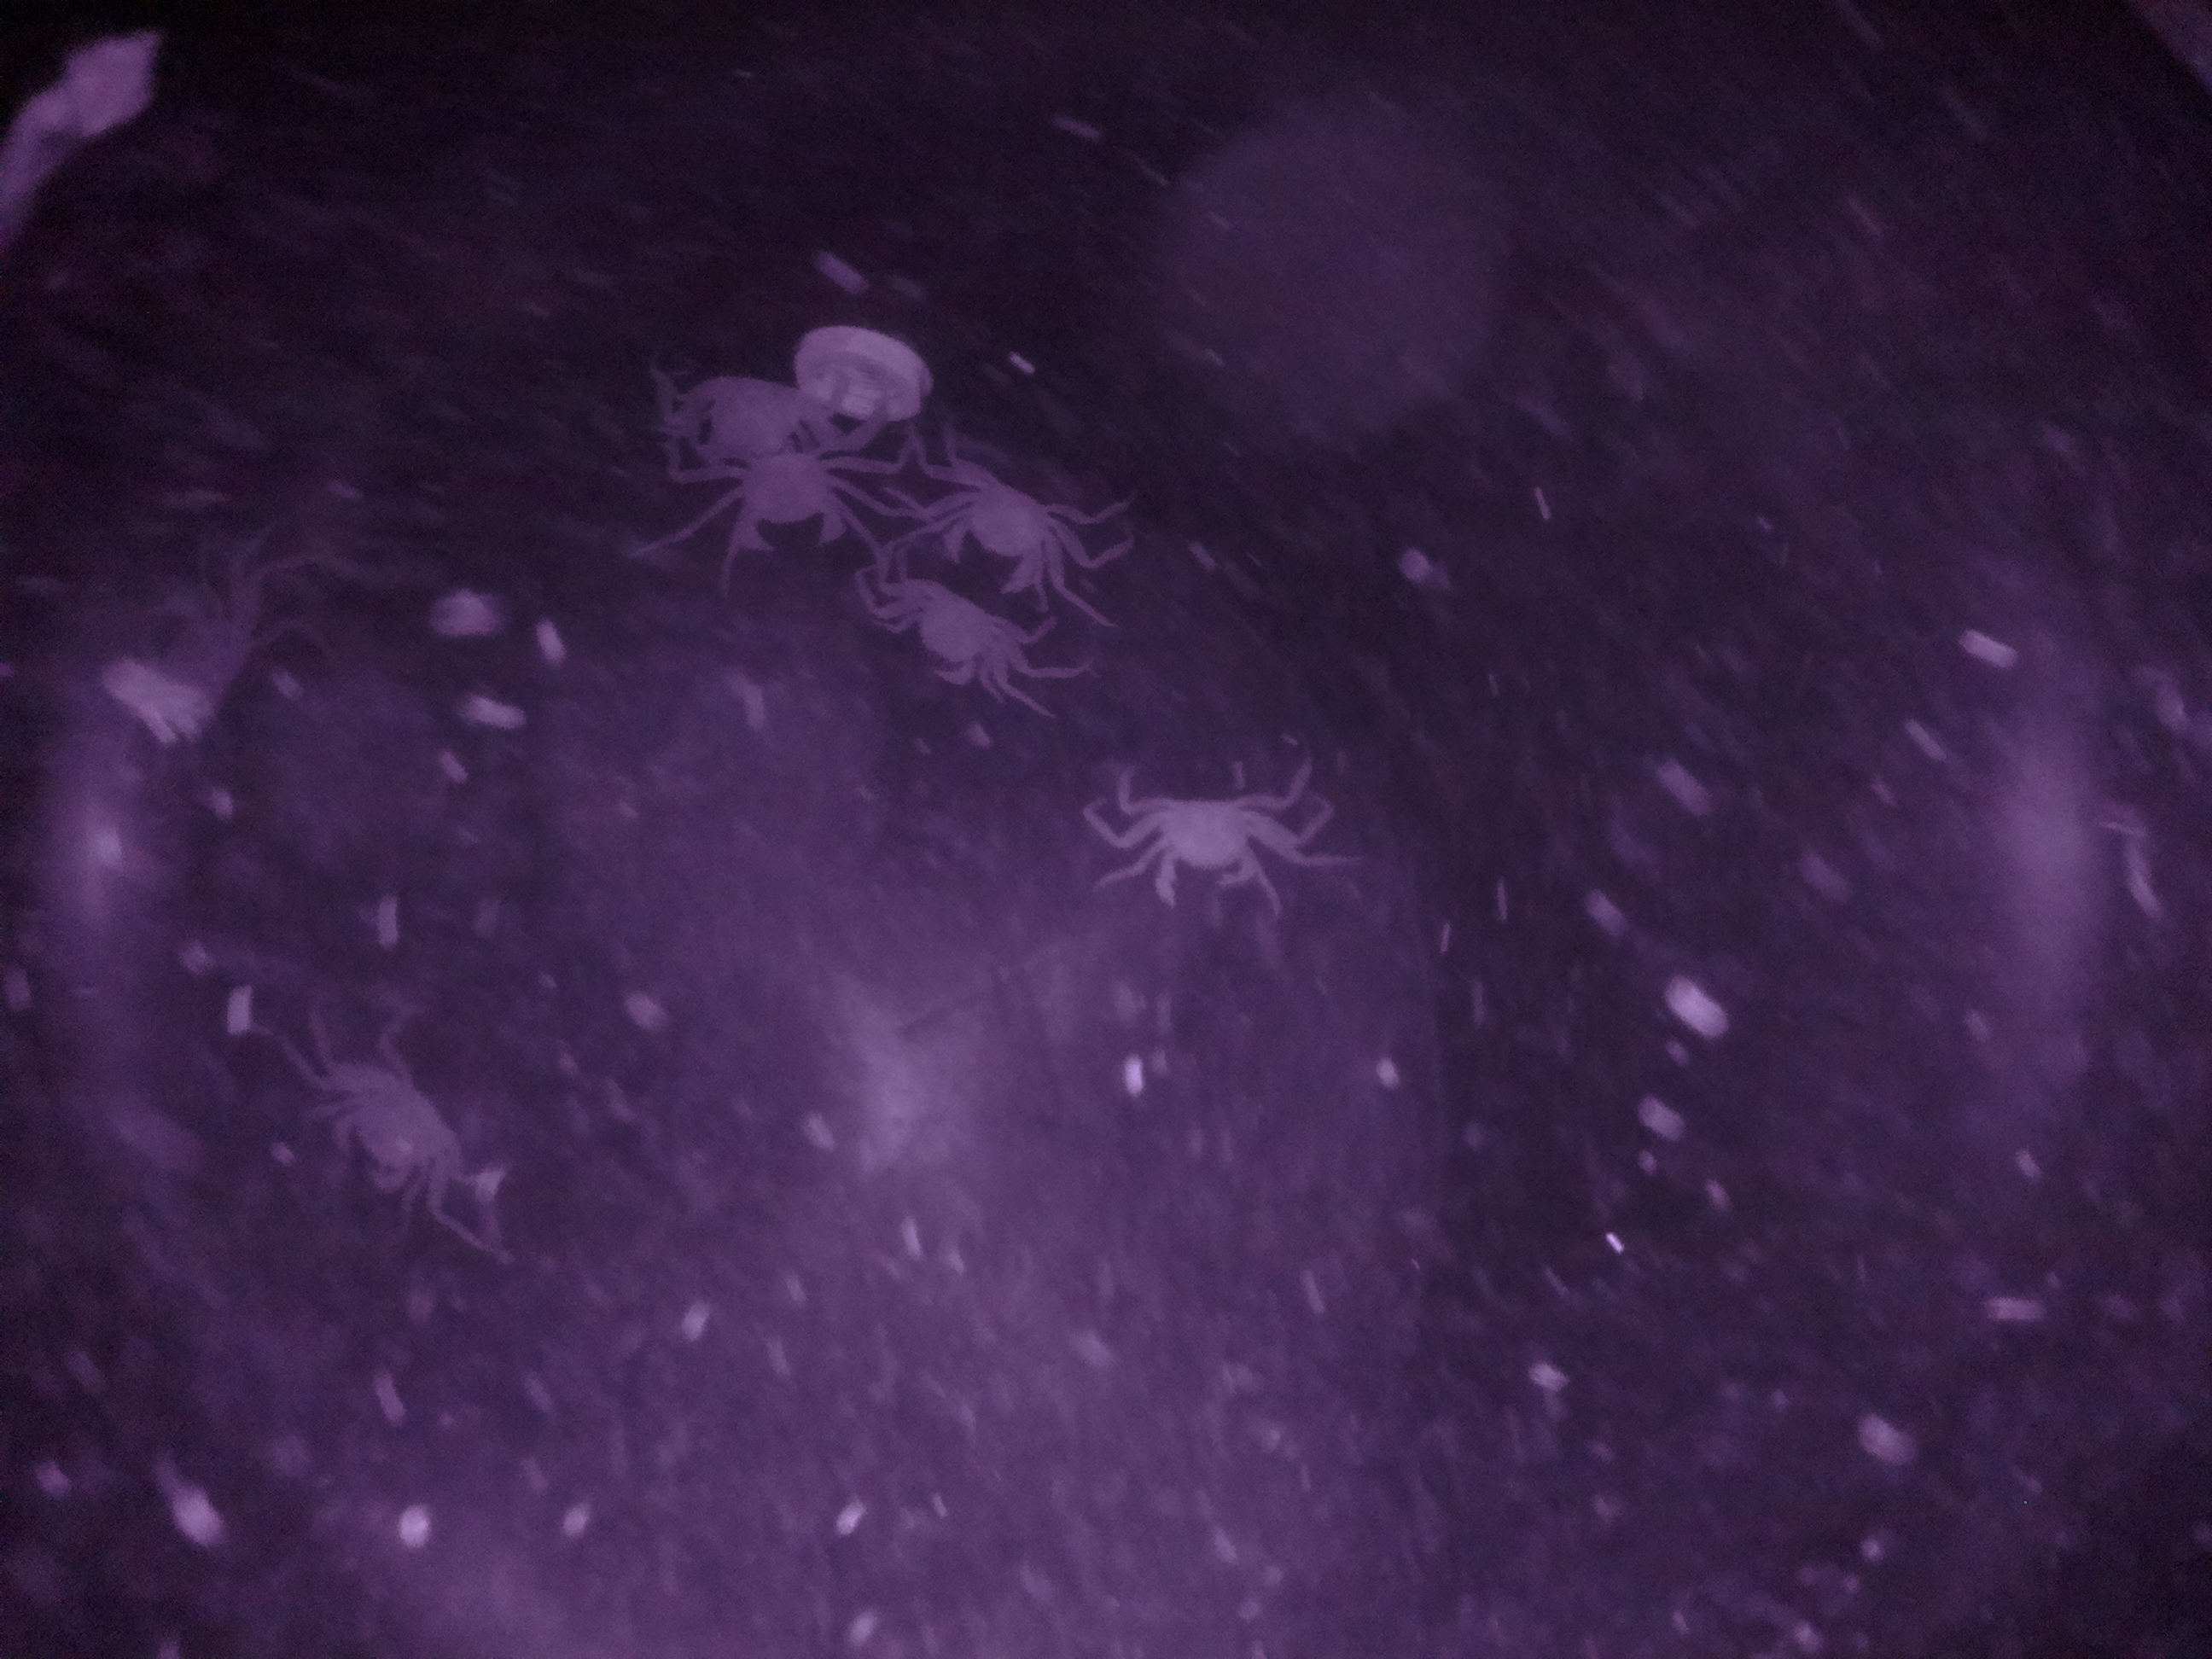Crab: (1076, 762, 1339, 913), (864, 563, 1075, 716), (702, 436, 876, 565)
